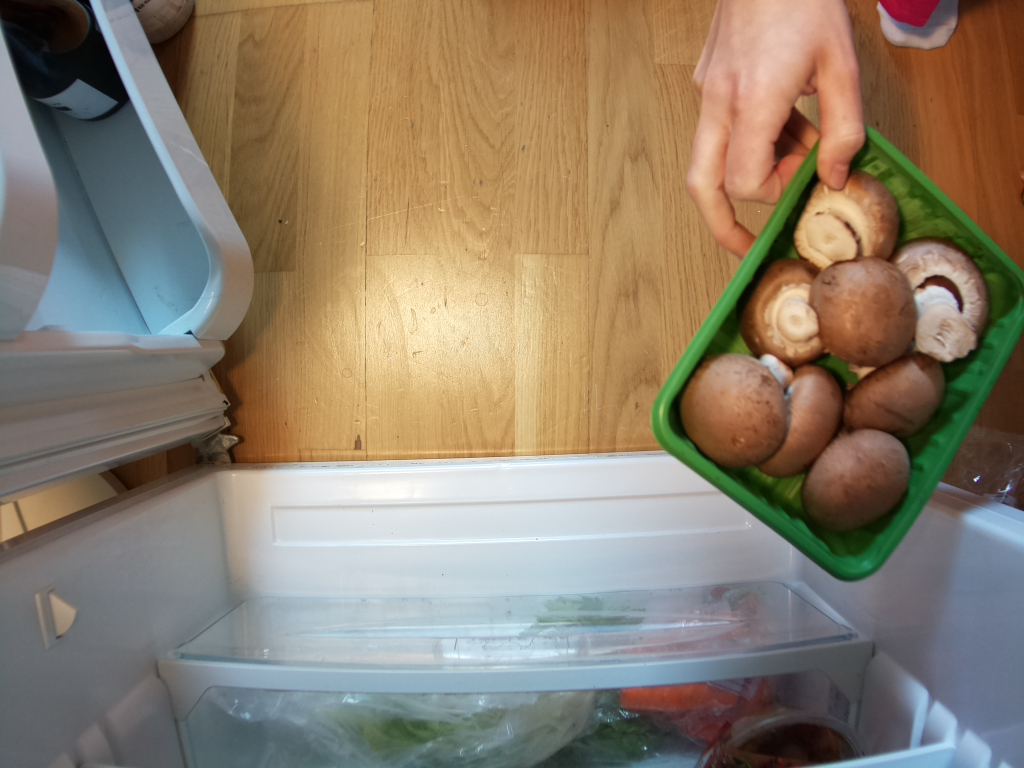mushrooms: (669, 121, 1024, 604)
